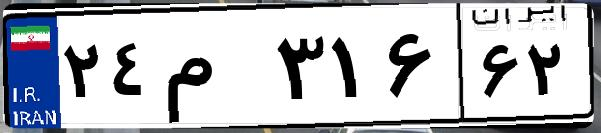1: (330, 28, 385, 110)
2: (57, 26, 110, 100), (525, 38, 570, 115)
3: (270, 28, 330, 110)
4: (110, 28, 158, 98)
6: (385, 28, 445, 110), (475, 38, 525, 113)
م: (158, 20, 270, 120)
